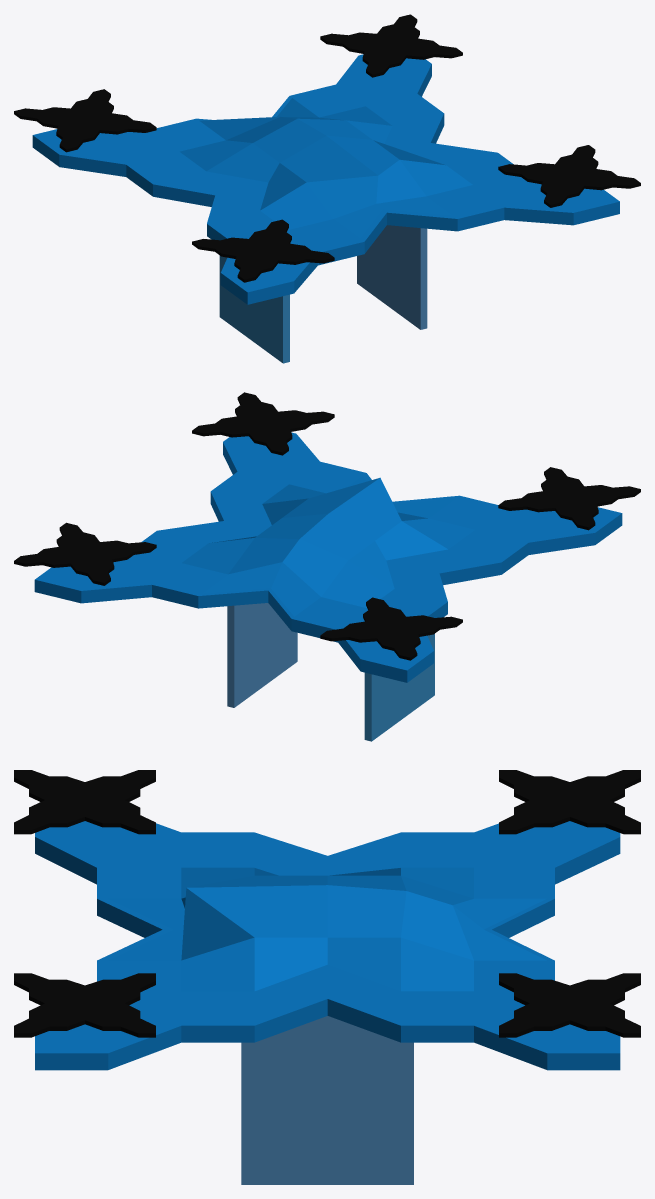
File: Drone2.fbx
The picture shows the model from 3 angles, top to bottom: view 1: azimuth 30°, elevation 25°; view 2: azimuth 150°, elevation 25°; view 3: azimuth 270°, elevation 25°; orthographic projection. The views are drawn at different scales.
Parts seen in each view (by area): view 1: Drone, PackageRight, Rotor.002, Rotor.003, Rotor.001, Rotor, PackageLeft; view 2: Drone, PackageRight, Rotor.002, Rotor.003, Rotor, Rotor.001, PackageLeft; view 3: Drone, PackageRight, Rotor.001, Rotor, Rotor.002, Rotor.003.
Boxes of the visible parts, x1,y1,x2,y2 form: Drone: (32, 54, 619, 304); PackageRight: (357, 225, 427, 329); Rotor.002: (320, 14, 462, 77); Rotor.003: (14, 89, 156, 152); Rotor.001: (498, 145, 640, 207); Rotor: (192, 219, 334, 282); PackageLeft: (219, 255, 289, 363); Drone: (34, 432, 622, 682); PackageRight: (227, 603, 297, 707); Rotor.002: (14, 522, 156, 585); Rotor.003: (320, 597, 462, 660); Rotor: (498, 467, 640, 530); Rotor.001: (192, 392, 334, 455); PackageLeft: (364, 634, 434, 741); Drone: (35, 821, 620, 1070); PackageRight: (241, 1016, 413, 1184); Rotor.001: (14, 973, 155, 1037); Rotor: (14, 770, 155, 834); Rotor.002: (499, 973, 640, 1037); Rotor.003: (499, 770, 640, 834).
Bounding box in the file's own units: 722 × 726 × 324.
